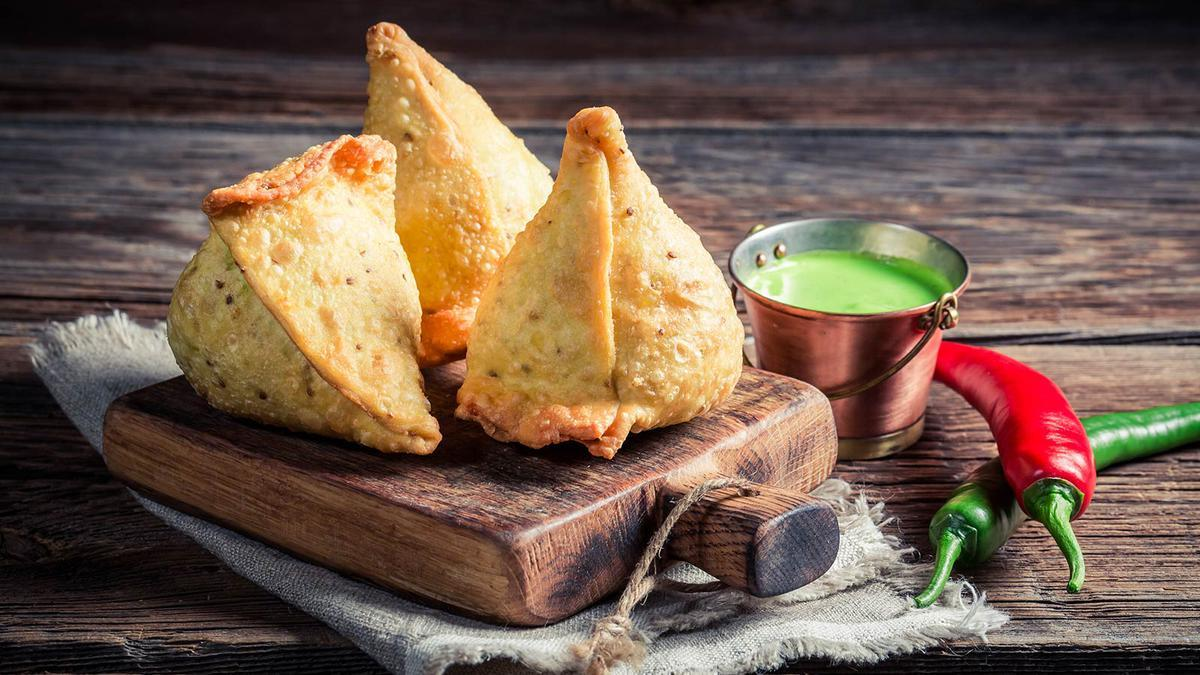samosa: (457, 108, 743, 457), (166, 136, 441, 454), (363, 23, 553, 364)
